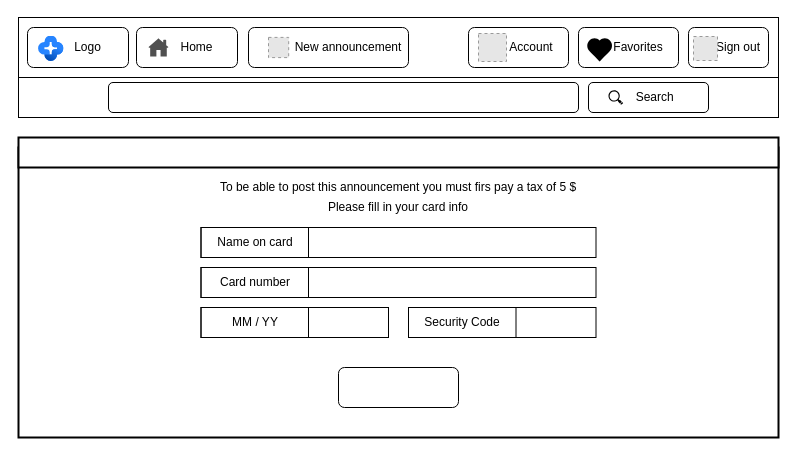
Some shapes in this 796 by 456 pixel diagram are drawn without their labels. Grey dashed boxes stand in for pictures. The shapes that lost their labels are listed below. From the top down, each one's centre as x and y in pixels, then its label:
At (x=343, y=97): "Enter keywords....".
At (x=398, y=152): "Card Details".
At (x=398, y=387): "Submit".
